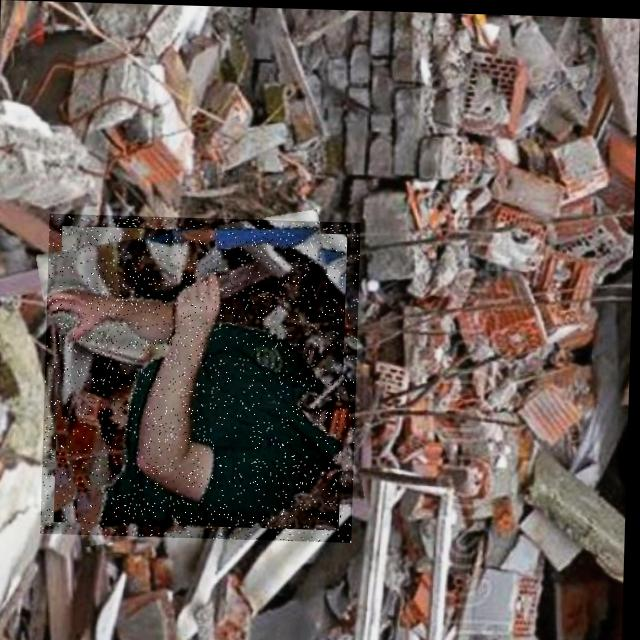Person in Rubble: (43, 213, 361, 541)
